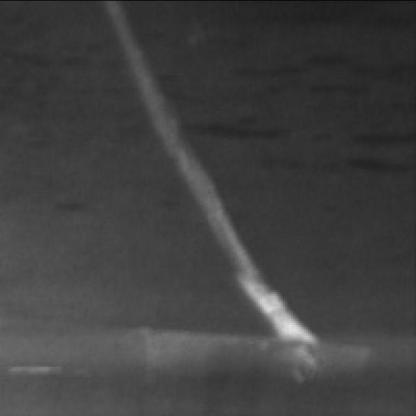scratches: (106, 11, 322, 376)
